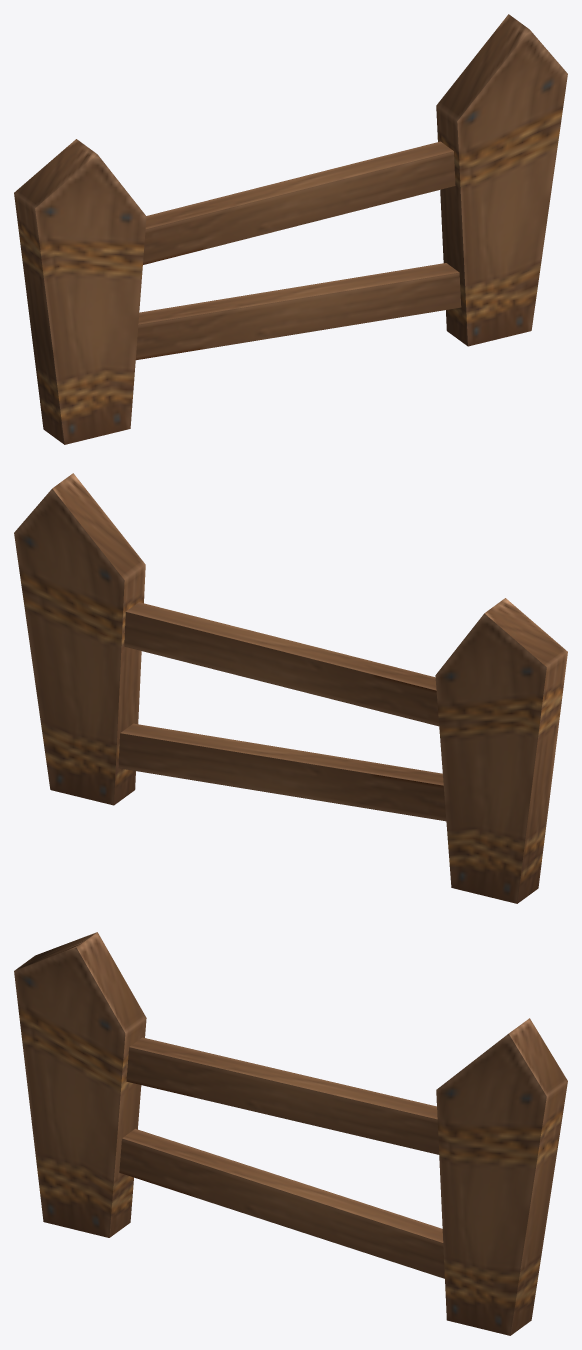
Rendered from fence_9.FBX.
3 renders of one model, top to bottom at view 1: azimuth 30°, elevation 25°; view 2: azimuth 150°, elevation 25°; view 3: azimuth 330°, elevation 25°, orthographic.
Parts seen in each view (by area): view 1: fence_010; view 2: fence_010; view 3: fence_010.
Boxes of the visible parts, x1,y1,x2,y2 form: fence_010: (14,14,567,444); fence_010: (14,473,567,903); fence_010: (14,932,567,1335).
Bounding box in the file's own units: 43.97 × 3.03 × 23.81.
